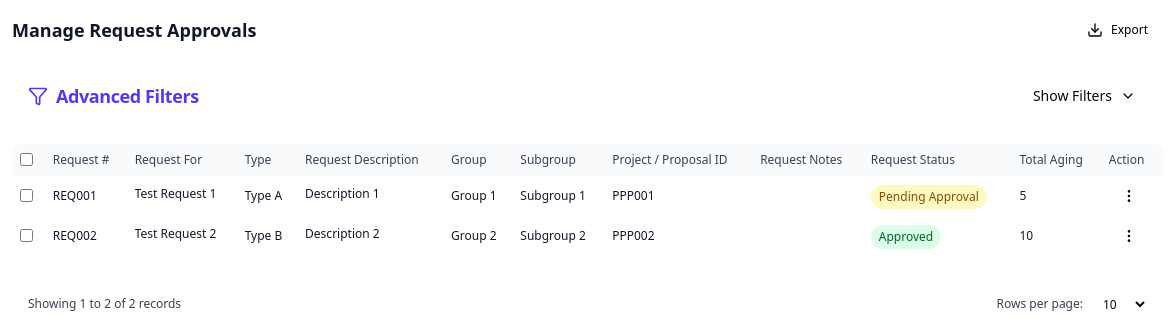
Test: ApprovalsContent › Selection › should handle individual checkbox selection
Click the checkbox next to "REQ001".
click(26, 196)  # box [20,189,33,202]
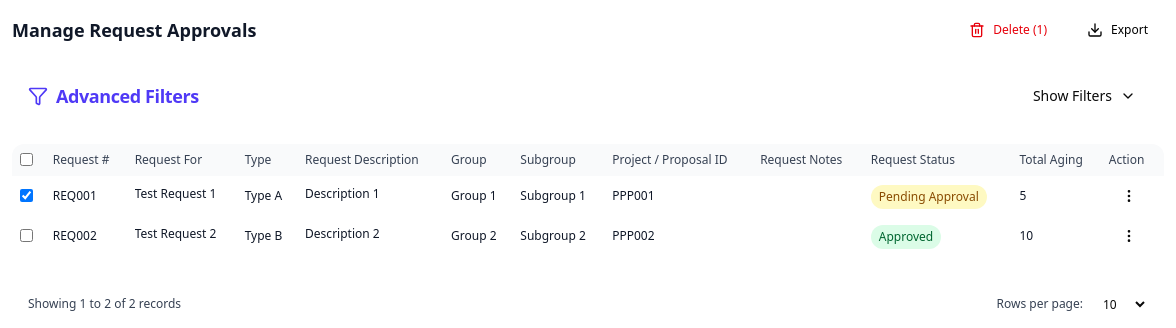
Expected: the button "Delete (1)" is shown, [953,12,1063,48]
